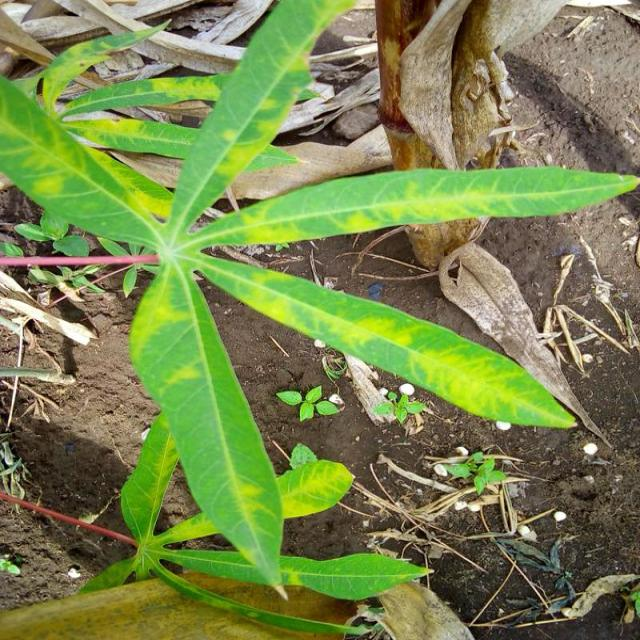cassava leaf: (2, 1, 623, 608)
